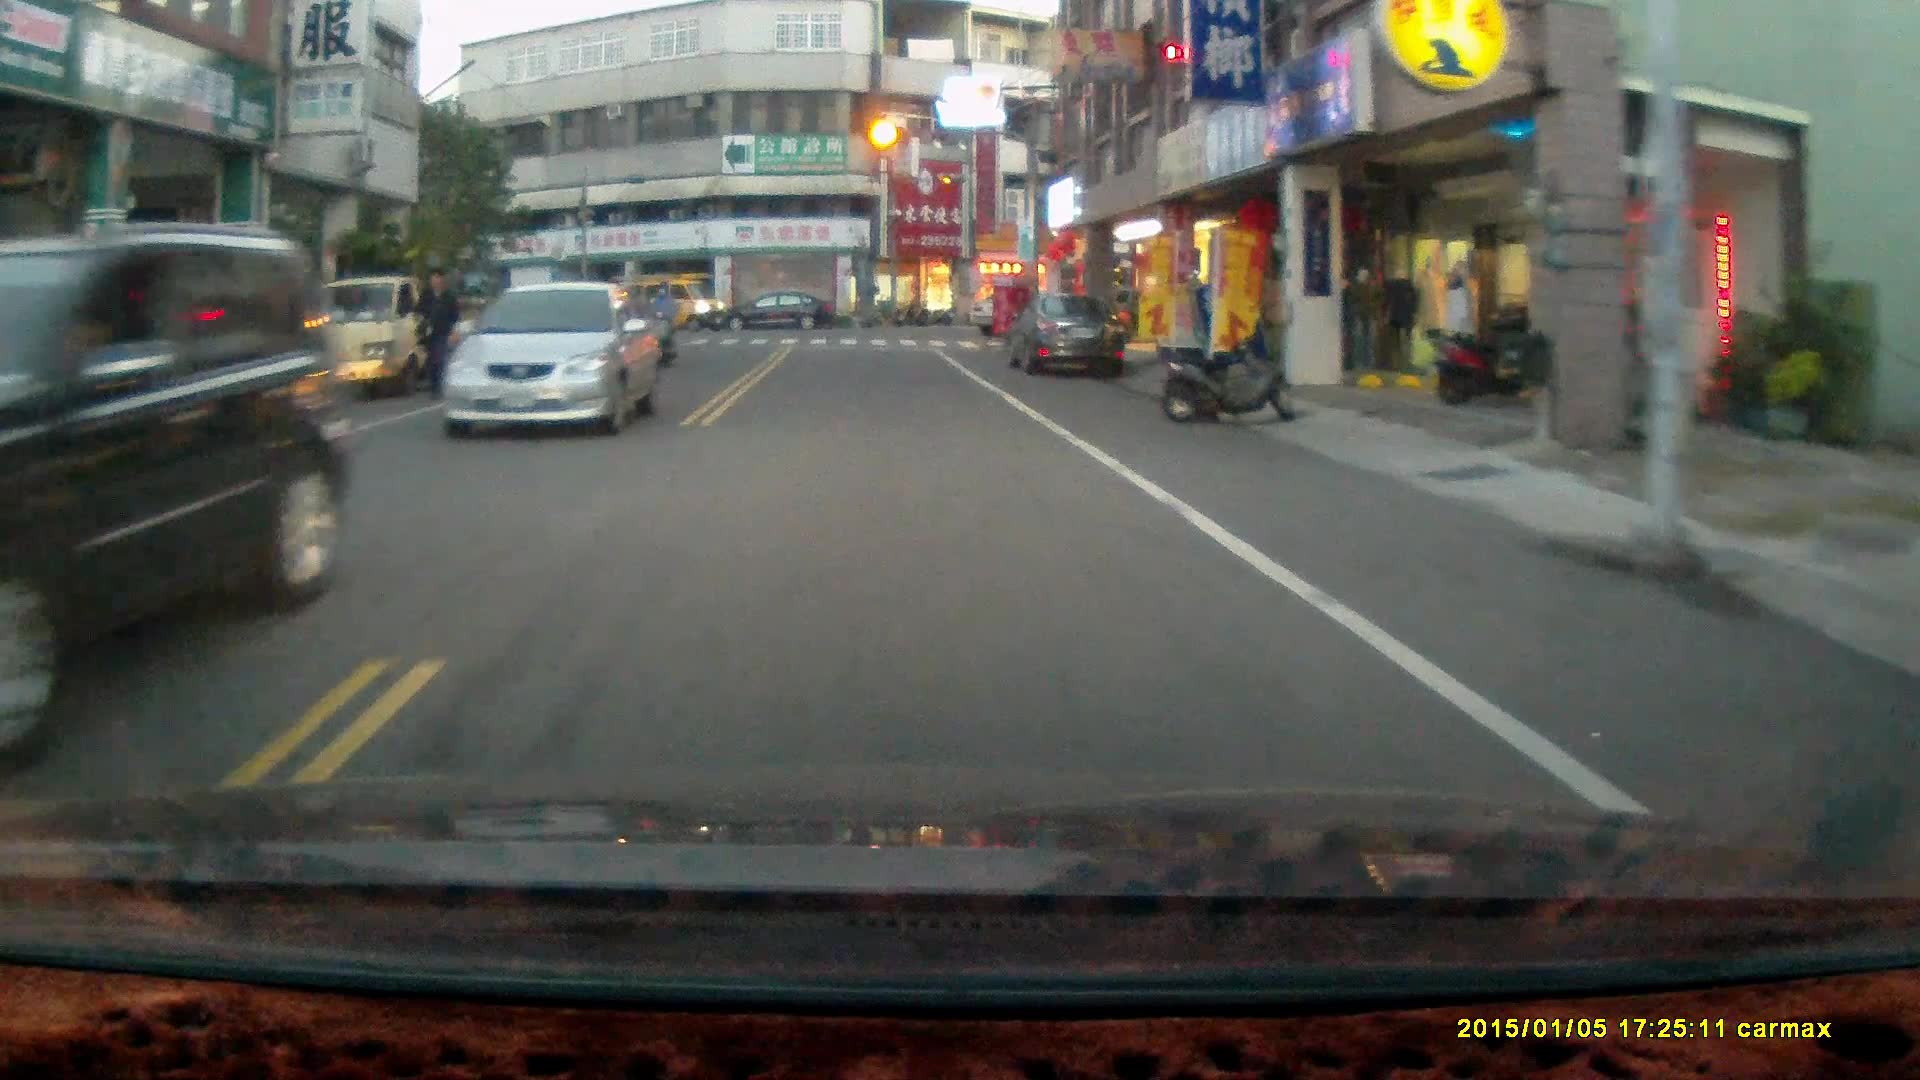pedestrian: (411, 262, 466, 402)
rider: (643, 281, 680, 374)
vehicle: (1, 236, 346, 712), (30, 301, 309, 452), (443, 281, 667, 440), (292, 275, 482, 401), (1004, 289, 1129, 383), (604, 275, 730, 336), (720, 291, 838, 336)
